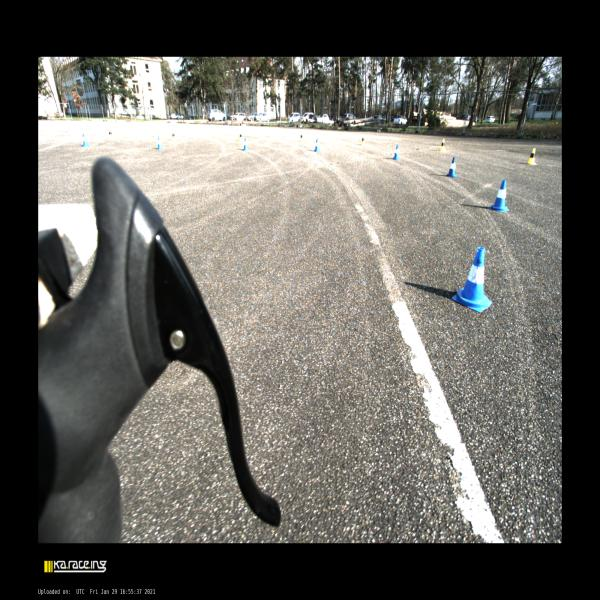blue_cone: (452, 247, 492, 312), (488, 180, 510, 212), (445, 157, 458, 177), (82, 132, 90, 147), (393, 144, 400, 160), (157, 136, 164, 150), (314, 138, 320, 152), (242, 137, 248, 151)
yellow_cone: (527, 148, 537, 165), (440, 138, 446, 152), (106, 128, 113, 138), (360, 135, 366, 146), (238, 132, 244, 142), (172, 132, 177, 142), (299, 133, 304, 142)
